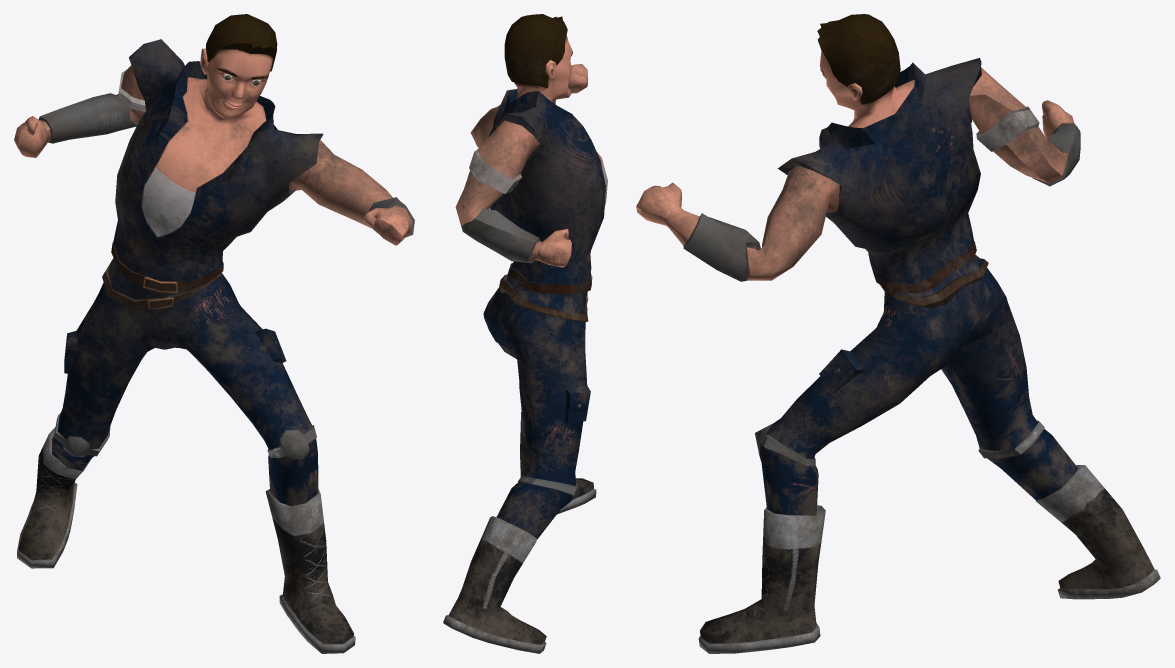
The model's file is Anim_especial_jugador.0025.obj.
3 renders of one model, left to right at view 1: azimuth 30°, elevation 25°; view 2: azimuth 150°, elevation 25°; view 3: azimuth 270°, elevation 25°, orthographic. The views are drawn at different scales.
Parts seen in each view (by area): view 1: polySurface1; view 2: polySurface1; view 3: polySurface1.
Boxes of the visible parts, <box> form: polySurface1: <box>14,14,414,653</box>; polySurface1: <box>443,14,607,653</box>; polySurface1: <box>636,14,1160,653</box>.
Size of the model in its own units: 3.87 by 9.01 by 6.81.
